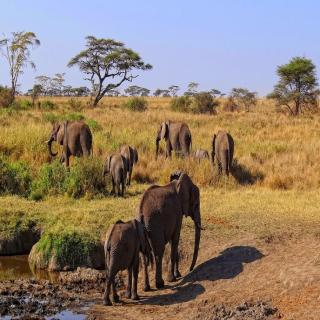Elephant: (133, 169, 210, 284), (102, 217, 157, 304), (43, 106, 102, 170), (152, 112, 193, 168), (102, 153, 130, 196), (211, 125, 238, 169)
